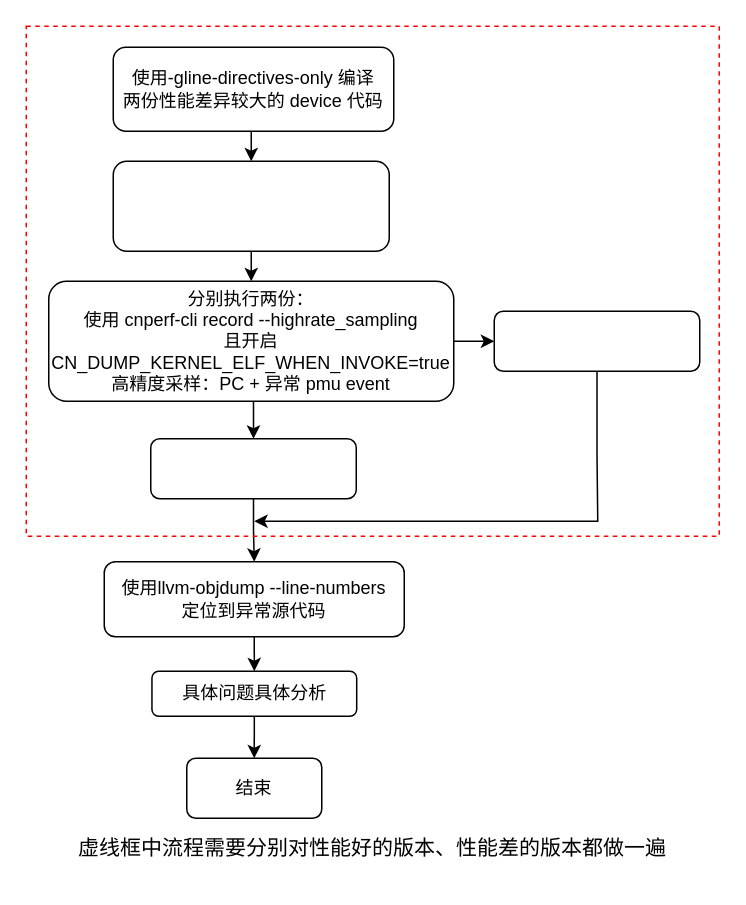
This 746x905 diagram has some shape labels left out. The centre of each missing label's shape, as x and y in pixels:
"两份目标 kernel elf" belongs at (596,340).
"分别执行两份： 使用cnperf-cli record --pmu 确认异常 core、异常 pmu event" belongs at (250,205).
"定位到异常 PC" belongs at (252,468).
